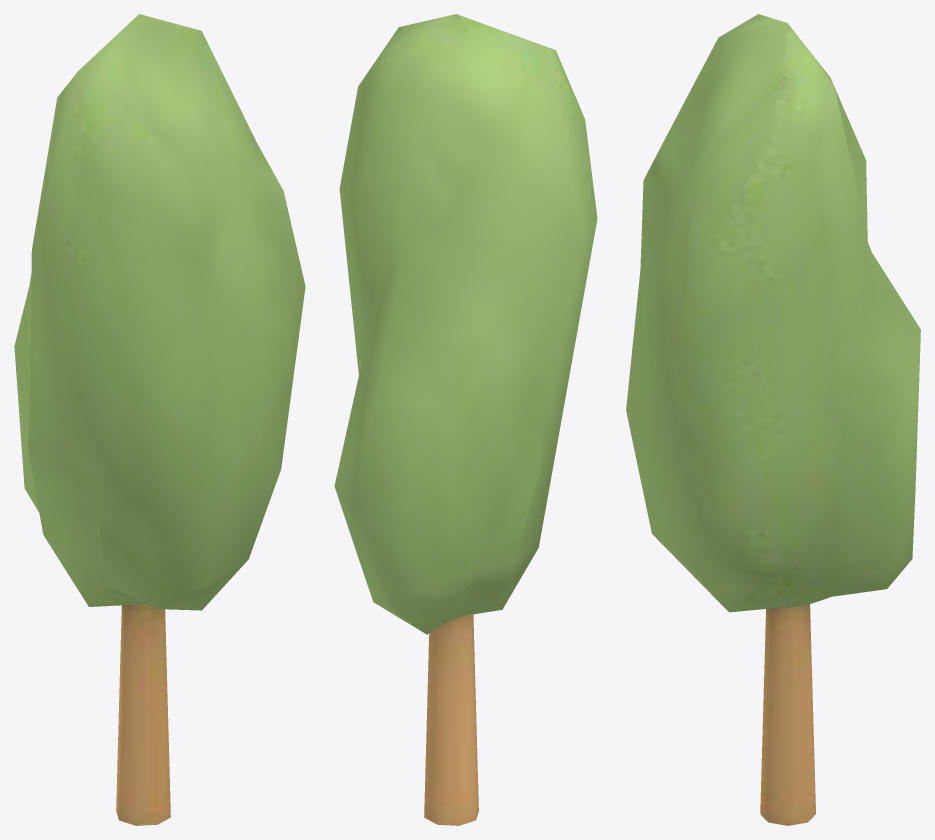
File: tree2.glb
3 views of the same model, side by side, from view 1: azimuth 30°, elevation 25°; view 2: azimuth 150°, elevation 25°; view 3: azimuth 270°, elevation 25° (orthographic).
Visible parts, largest first — view 1: Tree2; view 2: Tree2; view 3: Tree2.
Part boxes in pixels (x1,y1,x2,y2): Tree2: (14,14,305,825); Tree2: (334,14,597,825); Tree2: (626,14,920,825).
Bounding box in the file's own units: 2.56 × 8.41 × 2.85.
Materials: 1 (1 with a texture image).
